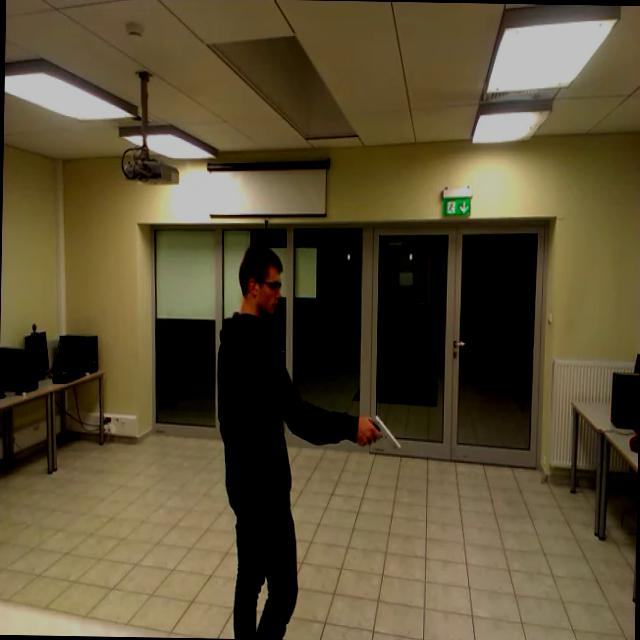handgun: (364, 400, 408, 462)
